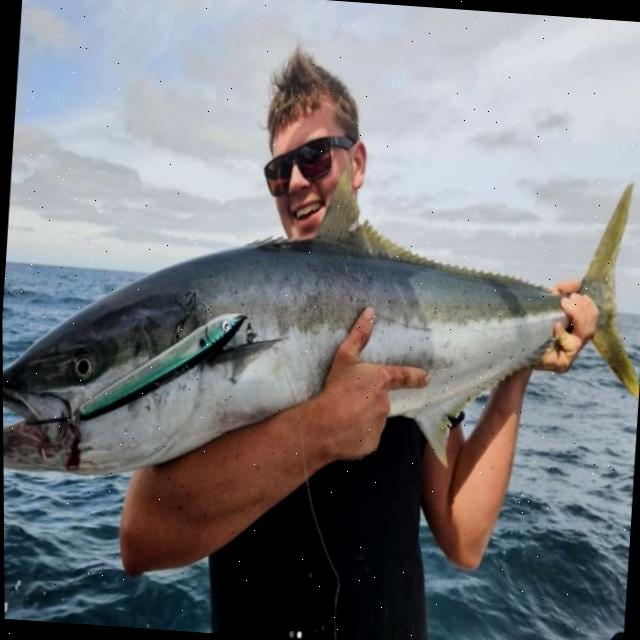Kingfish: (1, 130, 640, 516)
